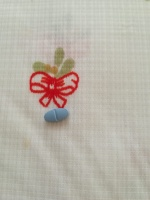Majezik: (44, 108, 70, 123)
